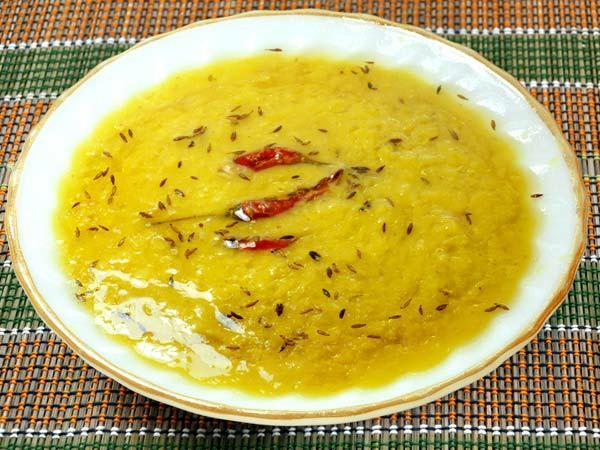Dal: (55, 51, 537, 395)
